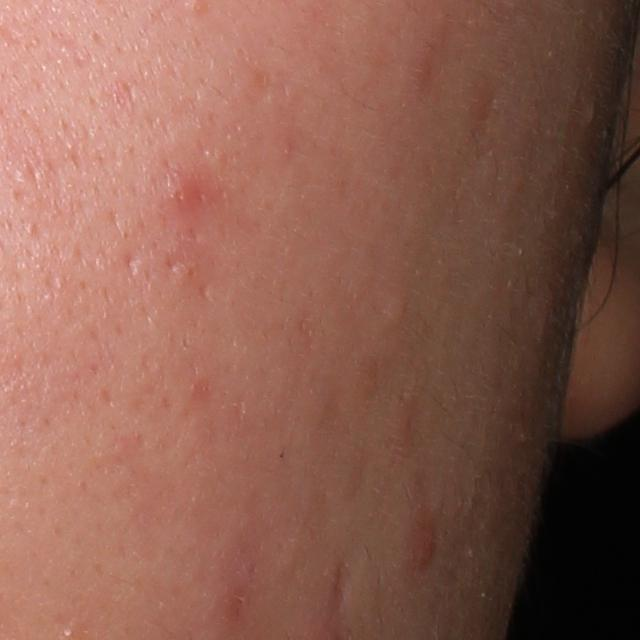atrophic_scar: (119, 251, 141, 281), (196, 275, 213, 305)
comedo: (379, 290, 409, 327)
papule: (160, 170, 211, 216), (404, 510, 443, 567)
